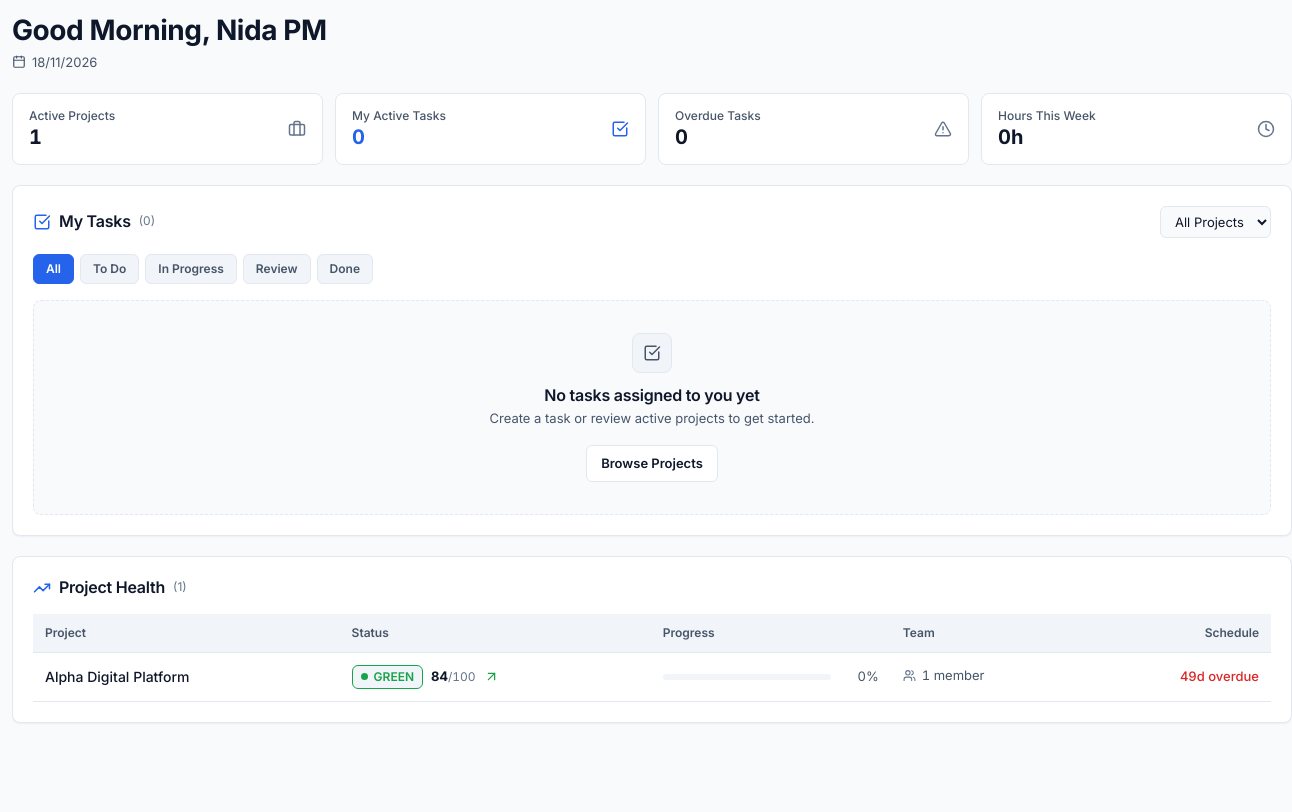
Test case: Step 4: Project Health Dashboard Table & Detail Page UI › renders color badge, numeric score, trend arrow on Dashboard and navigates to /projects/:id/health
Expected: the element with test id "health-badge-green" is shown, 352,665 -> 423,689
Expected: the element with test id "health-score-value" shows "84", 431,668 -> 448,684
Click the text "Alpha Digital Platform" at (117, 677), box 45,668 -> 189,685
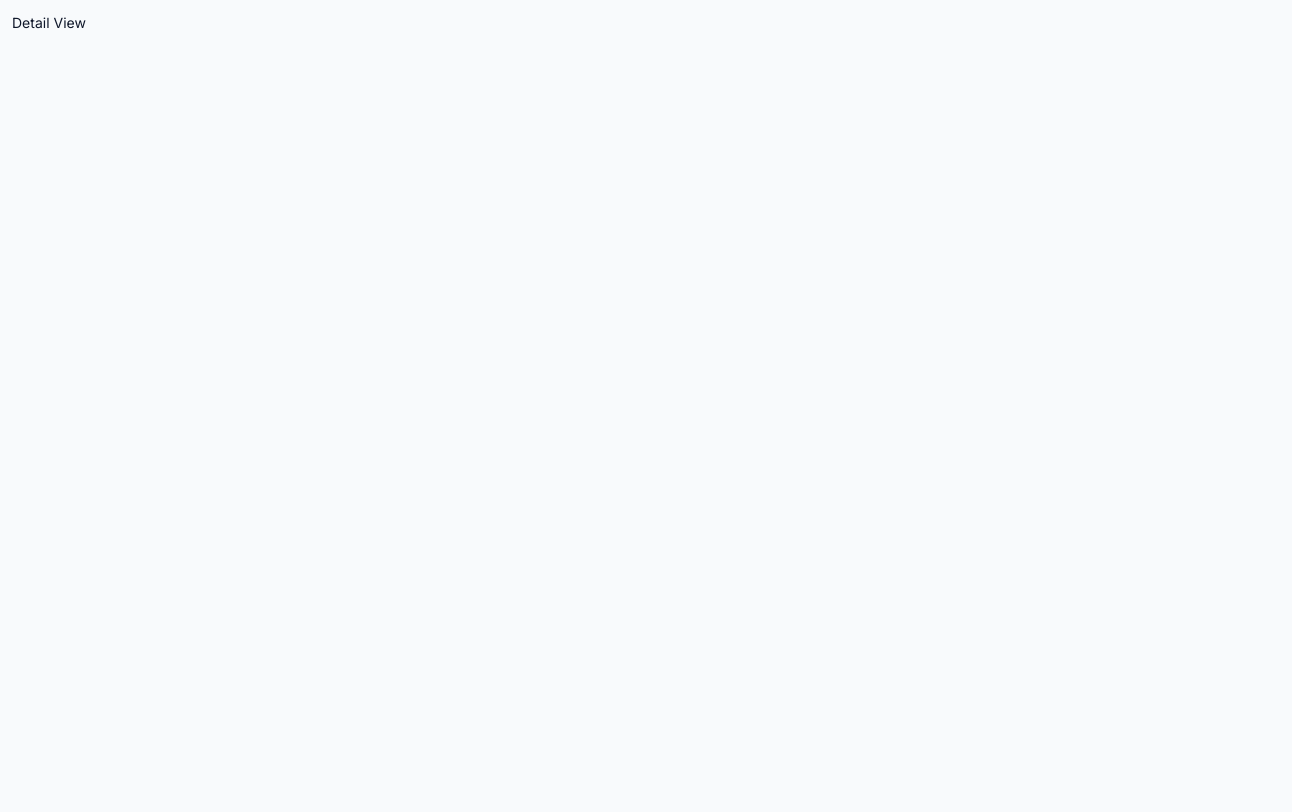
Result: the text "Detail View" is shown at 12,14 -> 86,31
